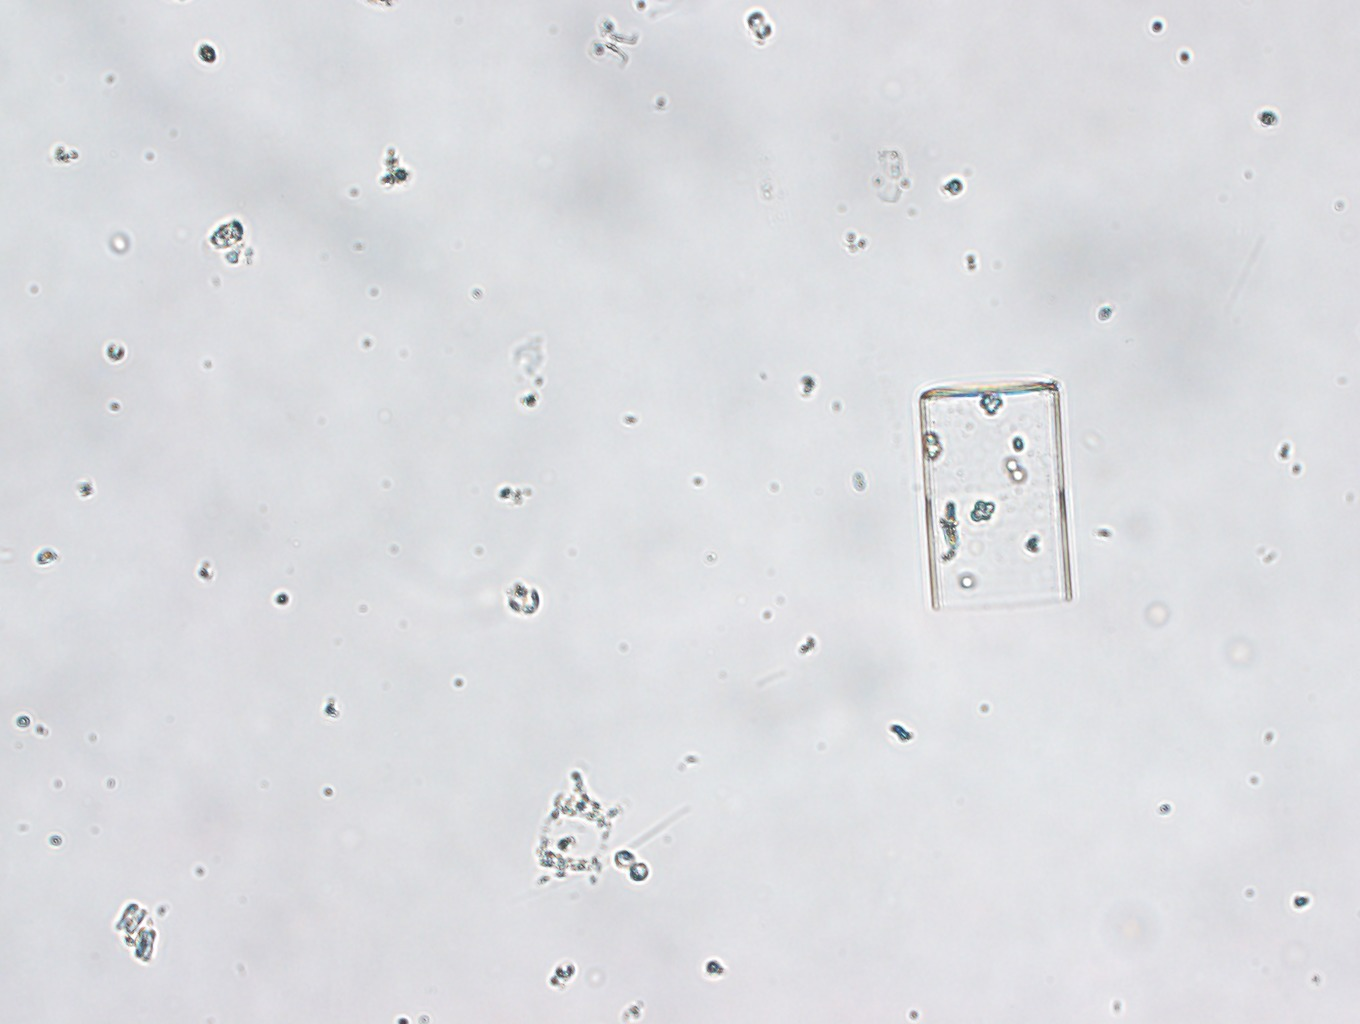guinardia flaccida: (917, 380, 1073, 612)
